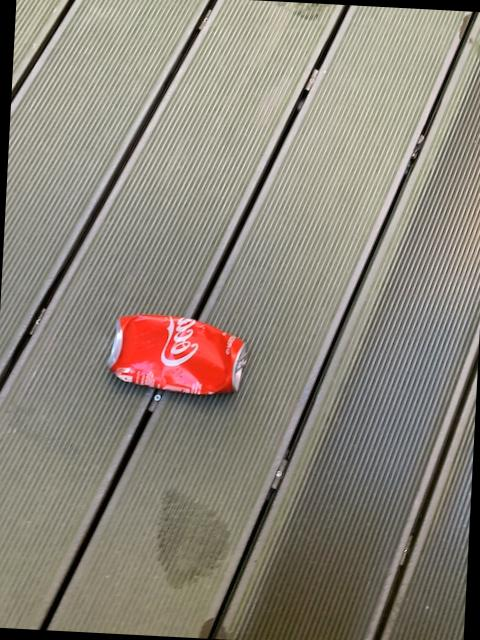metal: (107, 317, 242, 396)
